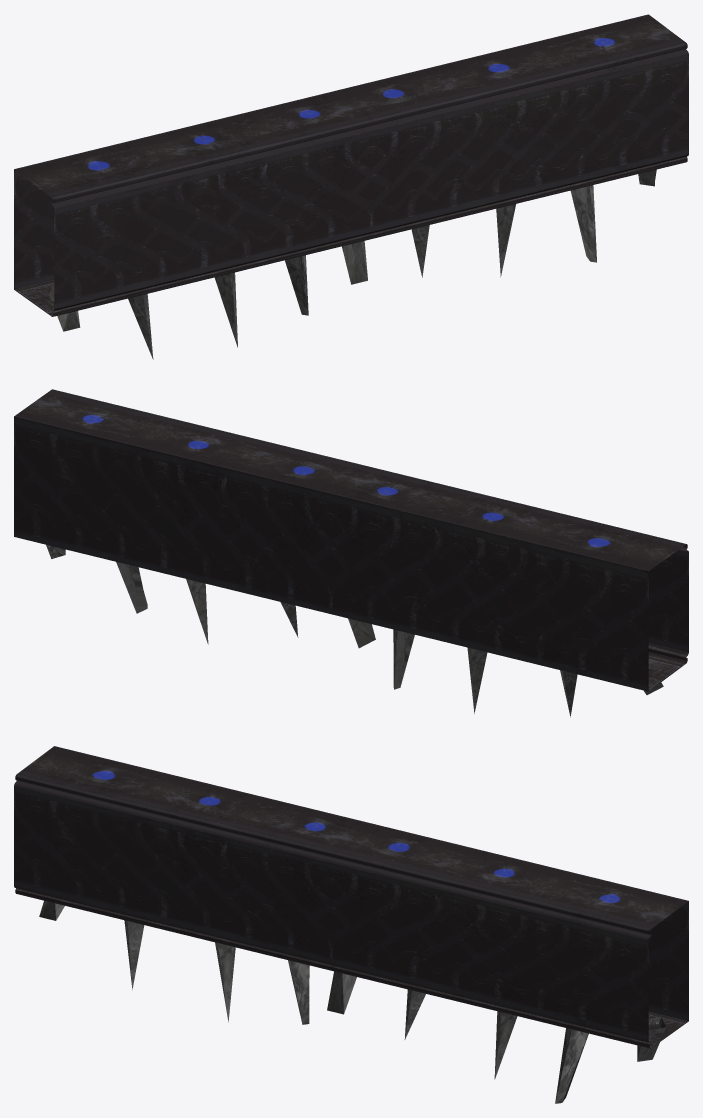
Rendered from SM_I_trim5.fbx.
3 renders of one model, top to bottom at view 1: azimuth 30°, elevation 25°; view 2: azimuth 150°, elevation 25°; view 3: azimuth 330°, elevation 25°, orthographic.
Visible parts, largest first — view 1: SM_I_trim5; view 2: SM_I_trim5; view 3: SM_I_trim5.
Boxes of the visible parts, bbox=[...] form: SM_I_trim5: bbox=[14, 14, 688, 359]; SM_I_trim5: bbox=[14, 389, 688, 717]; SM_I_trim5: bbox=[14, 746, 688, 1103].
Size of the model in its own units: 600 by 190 by 67.22.
1 material, 1 textured.
